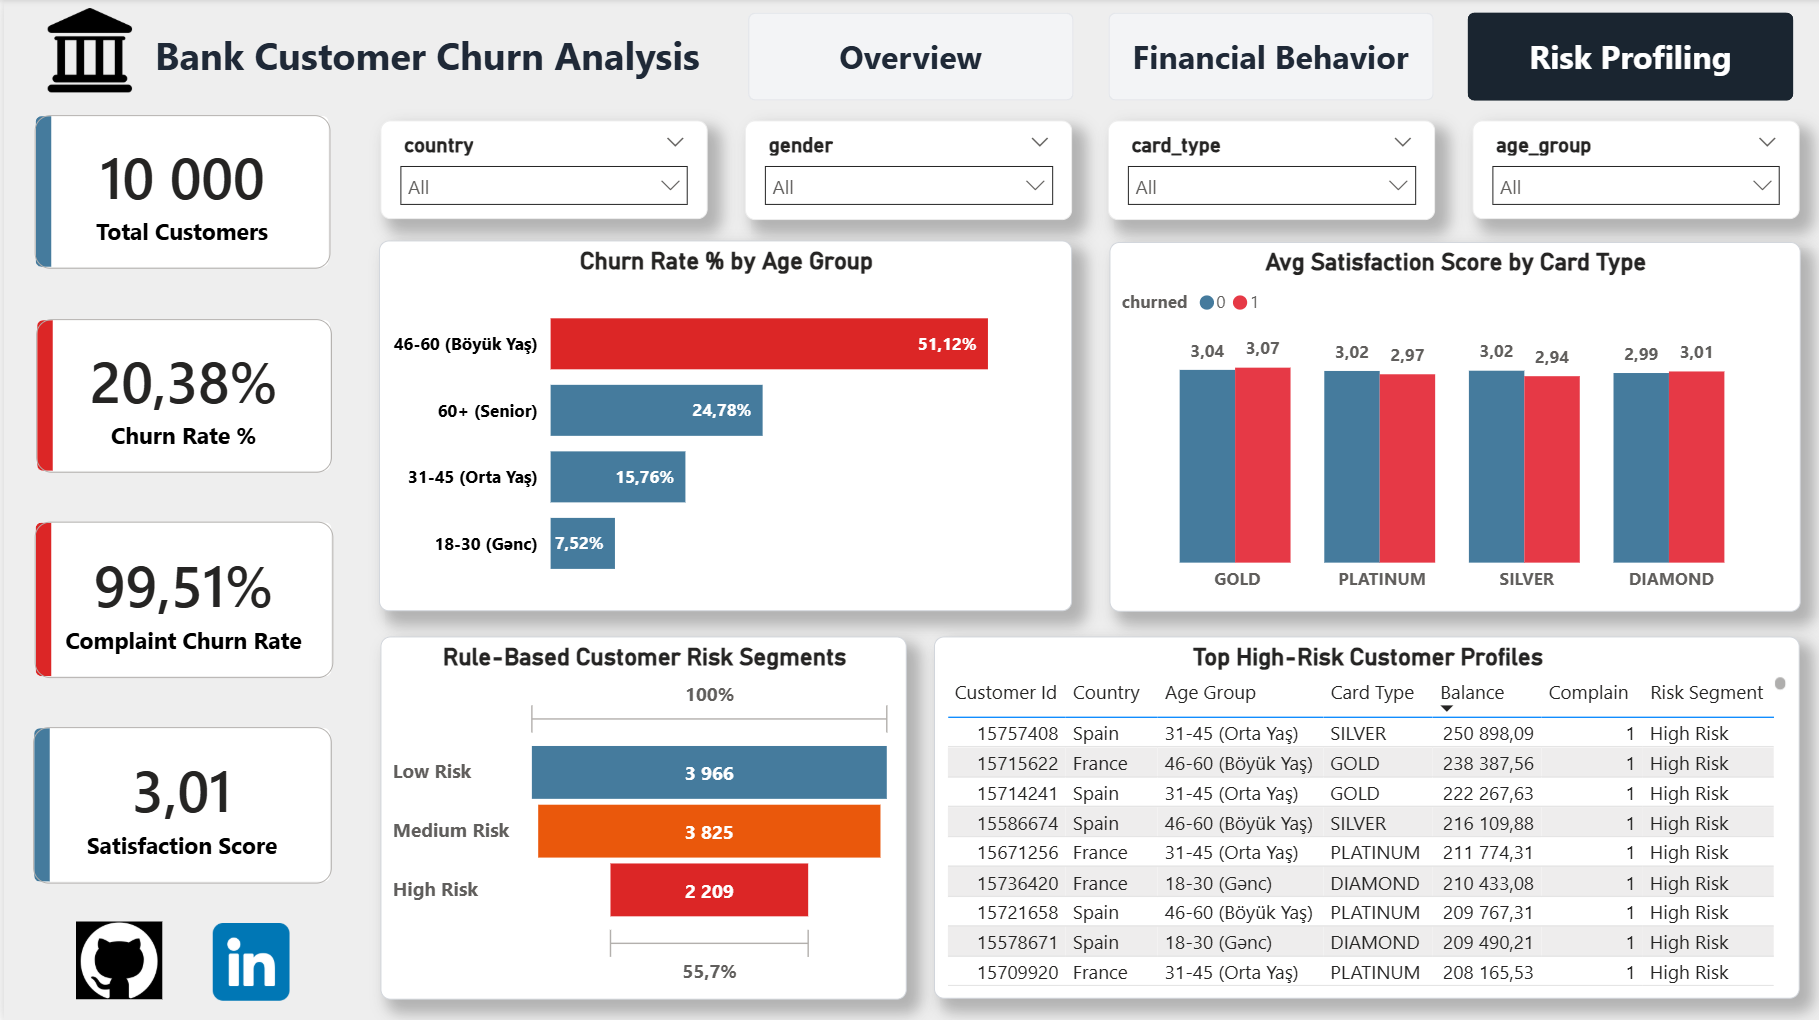

The dashboard page shown, as its layout file describes it:
{"tool":"powerbi","page":{"name":"Risk Profiling","canvas":[1280,720],"ordinal":2},"visuals":[{"type":"slicer","fields":{"Values":["dim_geography.country"]},"box":[264.7,85.4,229.9,69.6],"z":0},{"type":"slicer","fields":{"Values":["dim_customer.gender"]},"box":[520.6,85,230,70.1],"z":1000},{"type":"slicer","fields":{"Values":["dim_cardtype.card_type"]},"box":[776.6,85,230,70.1],"z":2000},{"type":"slicer","fields":{"Values":["dim_customer.age_group"]},"box":[1032.6,85.4,229.9,69.6],"z":3000},{"type":"clusteredColumnChart","title":"Avg Satisfaction Score by Card Type","fields":{"Series":["fact_churn.exited"],"Category":["dim_cardtype.card_type"],"Y":["Avg(fact_churn.satisfaction_score)"]},"box":[776.9,170.4,485.7,259.8],"z":4000},{"type":"clusteredBarChart","title":"Churn Rate % by Age Group","fields":{"Category":["dim_customer.age_group"],"Y":["Measures (2).Churn Rate %"]},"box":[263.7,169.8,487.3,260.5],"z":5000},{"type":"tableEx","title":"Top High-Risk Customer Profiles","fields":{"Values":["dim_customer.customer_id","dim_geography.country","dim_customer.age_group","dim_cardtype.card_type","Sum(fact_churn.balance)","Sum(fact_churn.complain)","fact_churn.Risk_Segment"]},"box":[653.7,448.3,609,255],"z":6000},{"type":"funnel","title":"Rule-Based Customer Risk Segments","fields":{"Category":["fact_churn.Risk_Segment"],"Y":["Measures (2).Total Customers"]},"box":[264.7,448.2,370.3,255.1],"z":7000},{"type":"pageNavigator","box":[522.9,9.6,735,62],"z":8000},{"type":"cardVisual","fields":{"Data":["Measures (2).Total Customers"]},"box":[4.4,64.8,242.9,142.6],"z":9000},{"type":"cardVisual","fields":{"Data":["Measures (2).Churn Rate %"]},"box":[5.6,207.4,242.9,142.6],"z":10000},{"type":"cardVisual","fields":{"Data":["Measures (2).Complaint Churn Rate %"]},"box":[4.4,350,244.1,145],"z":11000},{"type":"cardVisual","fields":{"Data":["Avg(fact_churn.satisfaction_score)"]},"box":[3.2,495,244.1,145],"z":12000},{"type":"image","box":[50.7,648.9,60.4,54.4],"z":13000},{"type":"image","box":[143.8,650.1,60.4,54.4],"z":14000},{"type":"textbox","box":[101.5,15.7,400,55.6],"z":15000},{"type":"image","box":[20.5,6,81,59.2],"z":16000}]}

Visuals, with their boxes in screenshot pixels (x1, y1, x2, y2), scaled from the page's 1280x720 canvas onto the 1819x1020 screenshot:
slicer - dim_geography.country: bbox(376, 121, 703, 220)
slicer - dim_customer.gender: bbox(740, 120, 1067, 220)
slicer - dim_cardtype.card_type: bbox(1104, 120, 1430, 220)
slicer - dim_customer.age_group: bbox(1467, 121, 1794, 220)
"Avg Satisfaction Score by Card Type" clusteredColumnChart: bbox(1104, 241, 1794, 609)
"Churn Rate % by Age Group" clusteredBarChart: bbox(375, 241, 1067, 610)
"Top High-Risk Customer Profiles" tableEx: bbox(929, 635, 1794, 996)
"Rule-Based Customer Risk Segments" funnel: bbox(376, 635, 902, 996)
pageNavigator: bbox(743, 14, 1788, 101)
cardVisual - Measures (2).Total Customers: bbox(6, 92, 351, 294)
cardVisual - Measures (2).Churn Rate %: bbox(8, 294, 353, 496)
cardVisual - Measures (2).Complaint Churn Rate %: bbox(6, 496, 353, 701)
cardVisual - Avg(fact_churn.satisfaction_score): bbox(5, 701, 351, 907)
image: bbox(72, 919, 158, 996)
image: bbox(204, 921, 290, 998)
textbox: bbox(144, 22, 713, 101)
image: bbox(29, 8, 144, 92)
